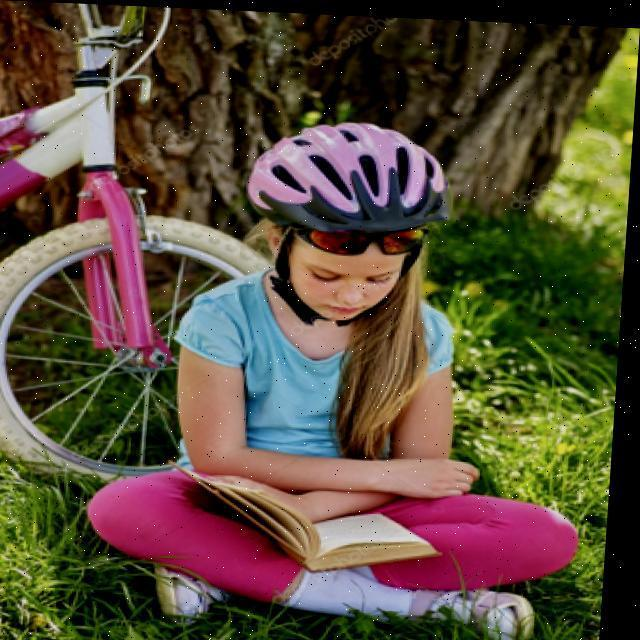Helmet: (235, 111, 453, 328)
